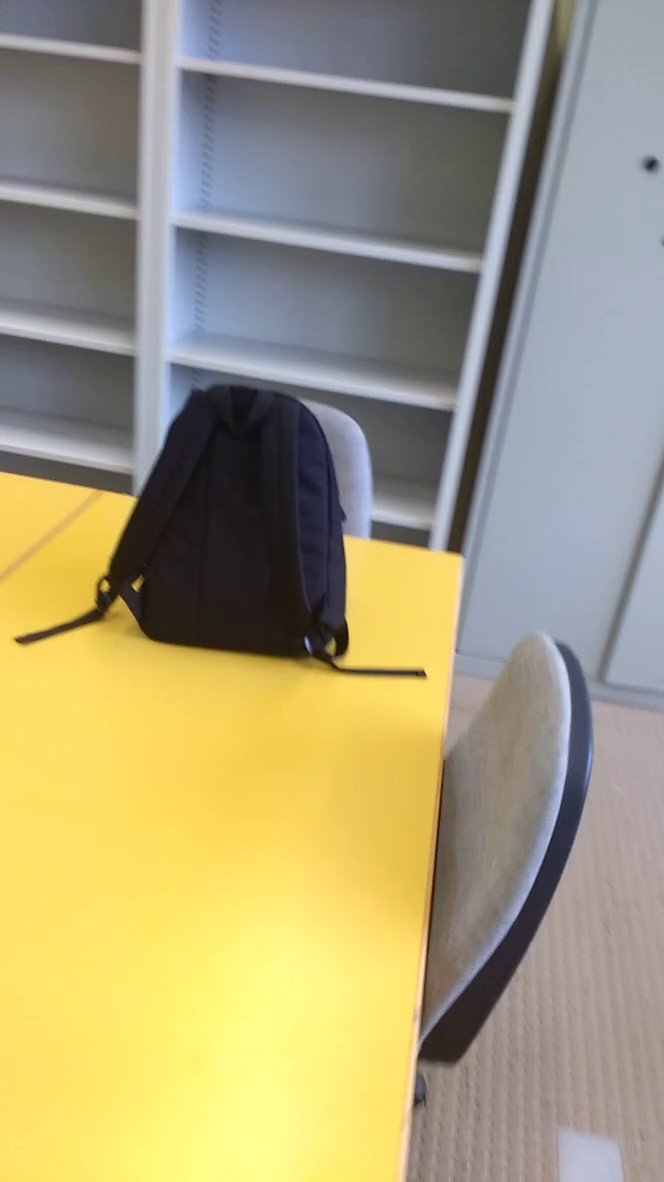bag: (14, 383, 426, 687)
chair: (397, 617, 607, 1106)
